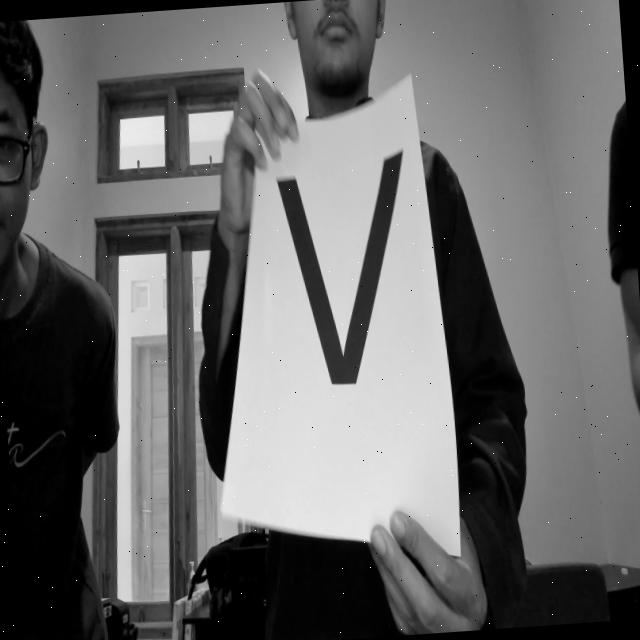v: (266, 142, 444, 419)
